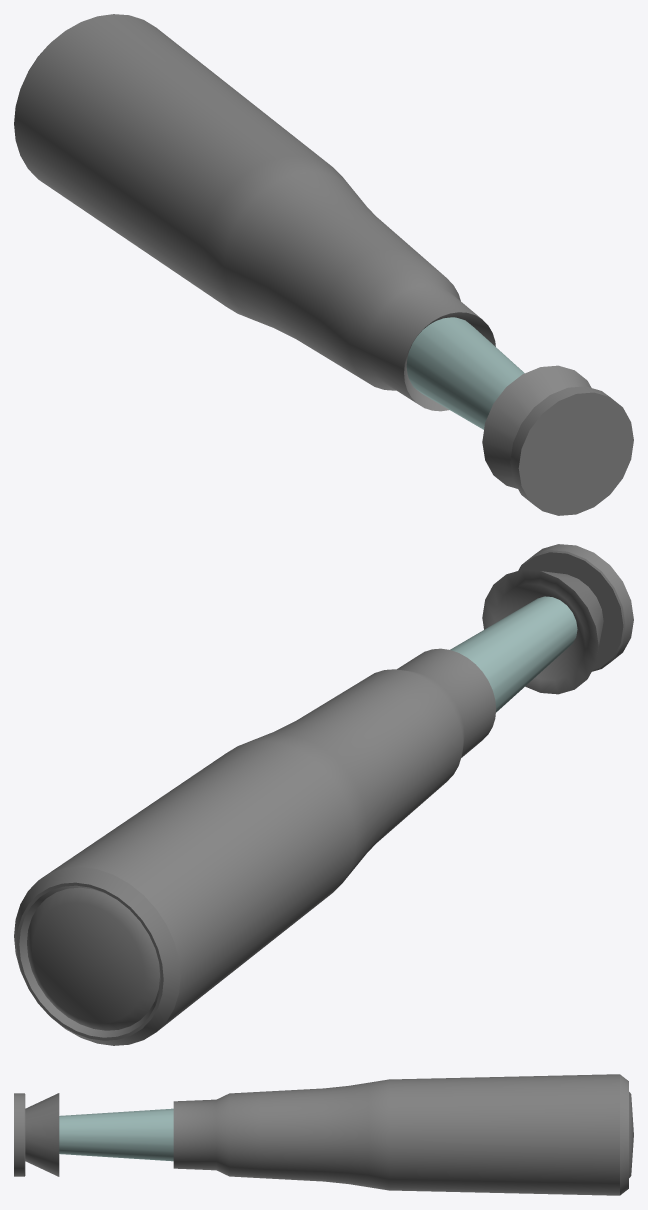
Rendered from handle-controller.fbx.
3 renders of one model, top to bottom at view 1: azimuth 30°, elevation 25°; view 2: azimuth 150°, elevation 25°; view 3: azimuth 270°, elevation 25°, orthographic. The views are drawn at different scales.
Parts seen in each view (by area): view 1: Joystick; view 2: Joystick; view 3: Joystick.
Part boxes in pixels (bbox=[...]): Joystick: bbox=[14, 14, 633, 515]; Joystick: bbox=[14, 544, 633, 1045]; Joystick: bbox=[14, 1074, 633, 1195].
Size of the model in its own units: 32.48 by 32.48 by 165.
